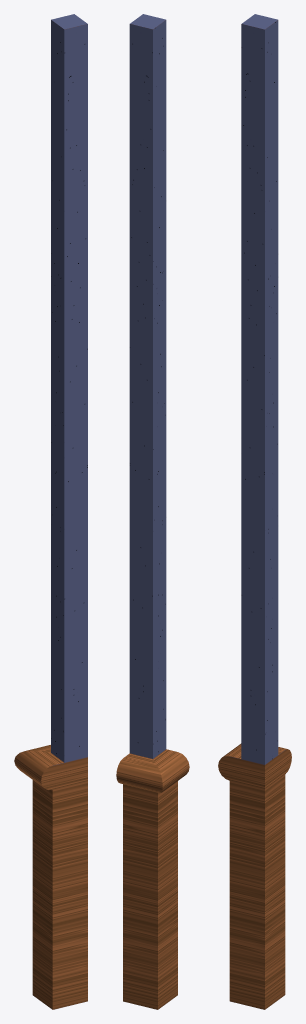
Rendered from EsquinaInferior.fbx.
3 views of the same model, side by side, from view 1: azimuth 30°, elevation 25°; view 2: azimuth 150°, elevation 25°; view 3: azimuth 330°, elevation 25° (orthographic).
Parts seen in each view (by area): view 1: EsquinaInterior; view 2: EsquinaInterior; view 3: EsquinaInterior.
Part boxes in pixels (x1,y1,x2,y2): EsquinaInterior: [14, 14, 87, 1009]; EsquinaInterior: [116, 14, 189, 1009]; EsquinaInterior: [218, 14, 291, 1009].
Size of what is drawn, in the model's own units: 20 by 20 by 400.
